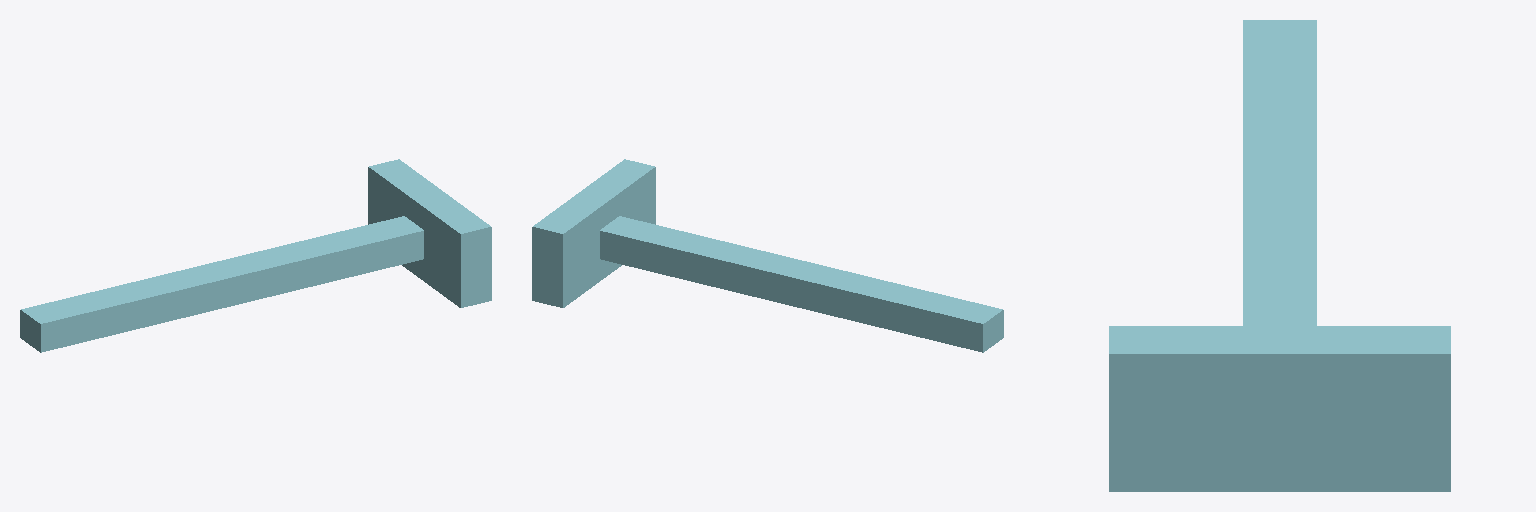
robot.urdf — cuboid_hammer_v008:
<?xml version="1.0"?>
<robot name="cuboid_hammer_v008">

  <link name="cuboid_hammer_v008">
    <!-- Handle -->
    <visual>
      <origin xyz="0 0 0" rpy="0 0 0"/>
      <geometry>
        <box size="0.2523743255962463 0.022795049672186197 0.017998623037126623"/>
      </geometry>
      <material name="material">
        <color rgba="0.639 0.847 0.882 1.0"/>
      </material>
    </visual>
    <collision>
      <origin xyz="0 0 0" rpy="0 0 0"/>
      <geometry>
        <box size="0.2523743255962463 0.022795049672186197 0.017998623037126623"/>
      </geometry>
    </collision>

    <!-- Head -->
    <visual>
      <origin xyz="0.13633440819314324 0 0" rpy="0 0 0"/>
      <geometry>
        <box size="0.02029449079004022 0.1050847064251497 0.04659403426368128"/>
      </geometry>
      <material name="material">
        <color rgba="0.639 0.847 0.882 1.0"/>
      </material>
    </visual>
    <collision>
      <origin xyz="0.13633440819314324 0 0" rpy="0 0 0"/>
      <geometry>
        <box size="0.02029449079004022 0.1050847064251497 0.04659403426368128"/>
      </geometry>
    </collision>

    <inertial>
      <density value="400.0"/>
    </inertial>
  </link>

</robot>

--- What the picture shows (computed from the rendered views, not written in the file) ---
Views: 3 orthographic renders of the robot side by side, from view 1: azimuth 30°, elevation 25°; view 2: azimuth 150°, elevation 25°; view 3: azimuth 270°, elevation 25°.
Robot: cuboid_hammer_v008 — 1 links, 0 joints (none); root link cuboid_hammer_v008; default pose: every joint at zero.
Visible links, largest first — view 1: cuboid_hammer_v008; view 2: cuboid_hammer_v008; view 3: cuboid_hammer_v008.
Boxes of the visible links, x1,y1,x2,y2 form: cuboid_hammer_v008: (20,159,491,352); cuboid_hammer_v008: (532,159,1003,352); cuboid_hammer_v008: (1109,20,1450,491).
Size in the robot's own frame: 0.2727 by 0.1051 by 0.0466 metres.
Geometry: primitives only (box / cylinder / sphere), no mesh files.
